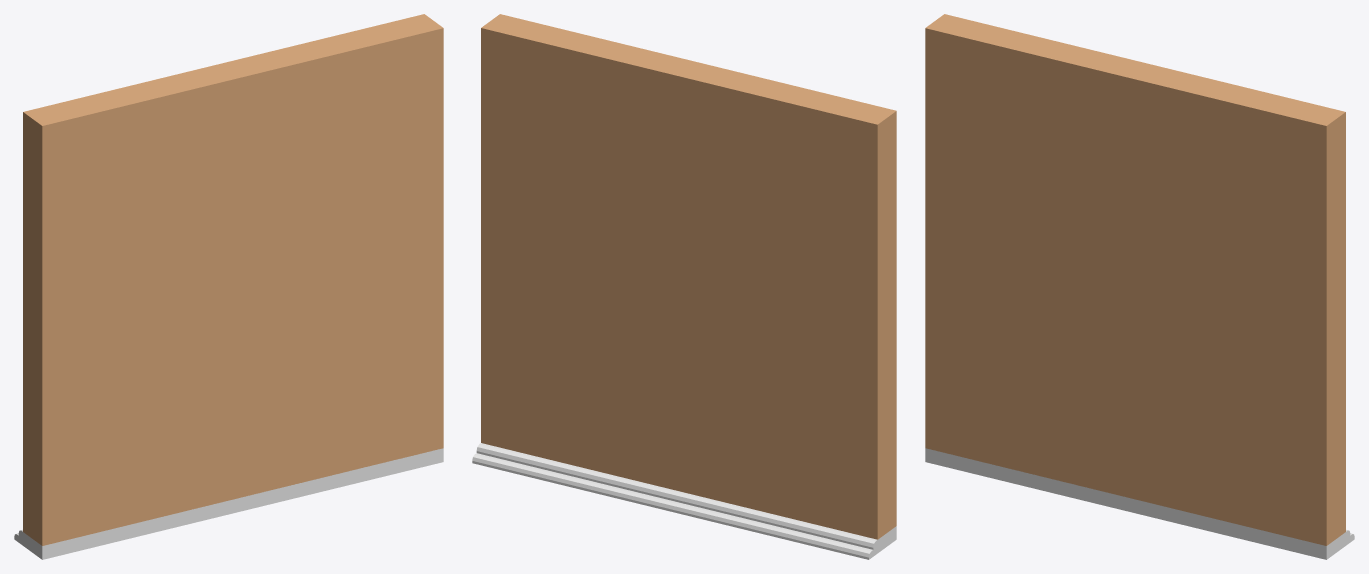
Rendered from HouseWalls.fbx.
3 renders of one model, left to right at view 1: azimuth 30°, elevation 25°; view 2: azimuth 150°, elevation 25°; view 3: azimuth 330°, elevation 25°, orthographic.
Visible parts, largest first — view 1: Wall, WallTrim; view 2: Wall, WallTrim; view 3: Wall, WallTrim.
Boxes of the visible parts, bbox=[...] form: Wall: bbox=[23, 14, 443, 545]; WallTrim: bbox=[14, 448, 443, 559]; Wall: bbox=[481, 14, 896, 539]; WallTrim: bbox=[472, 443, 896, 559]; Wall: bbox=[925, 14, 1345, 545]; WallTrim: bbox=[925, 448, 1354, 559].
Size of the model in its own units: 6 by 6.2 by 0.7296.
